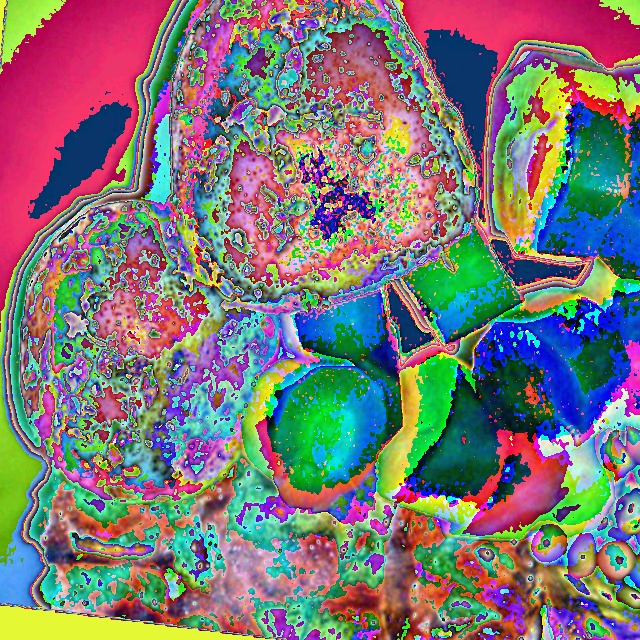background: (17, 0, 639, 640)
